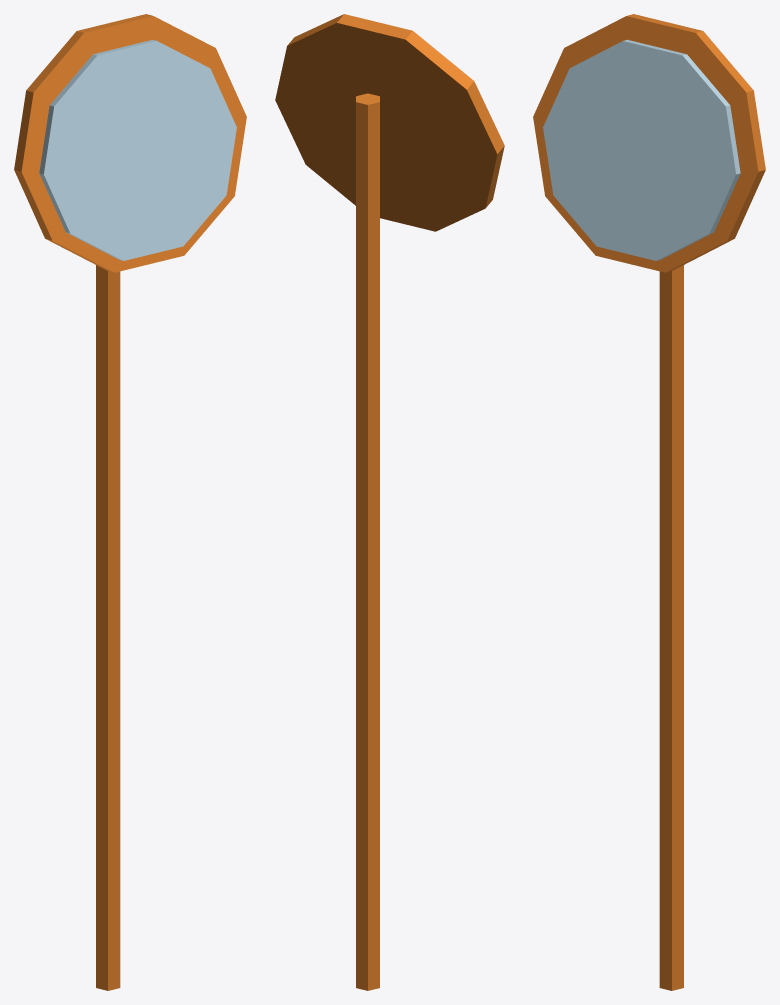
Rendered from mirror.glb.
The picture shows the model from 3 angles, left to right: view 1: azimuth 30°, elevation 25°; view 2: azimuth 150°, elevation 25°; view 3: azimuth 330°, elevation 25°; orthographic projection.
Visible parts, largest first — view 1: mirror; view 2: mirror; view 3: mirror.
Boxes of the visible parts, x1,y1,x2,y2 form: mirror: (14,14,246,990); mirror: (275,14,504,990); mirror: (533,14,765,990).
Size of the model in its own units: 0.84 by 3.45 by 0.3318.
